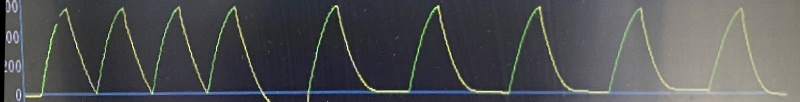normal_volume: (18, 0, 800, 102)
